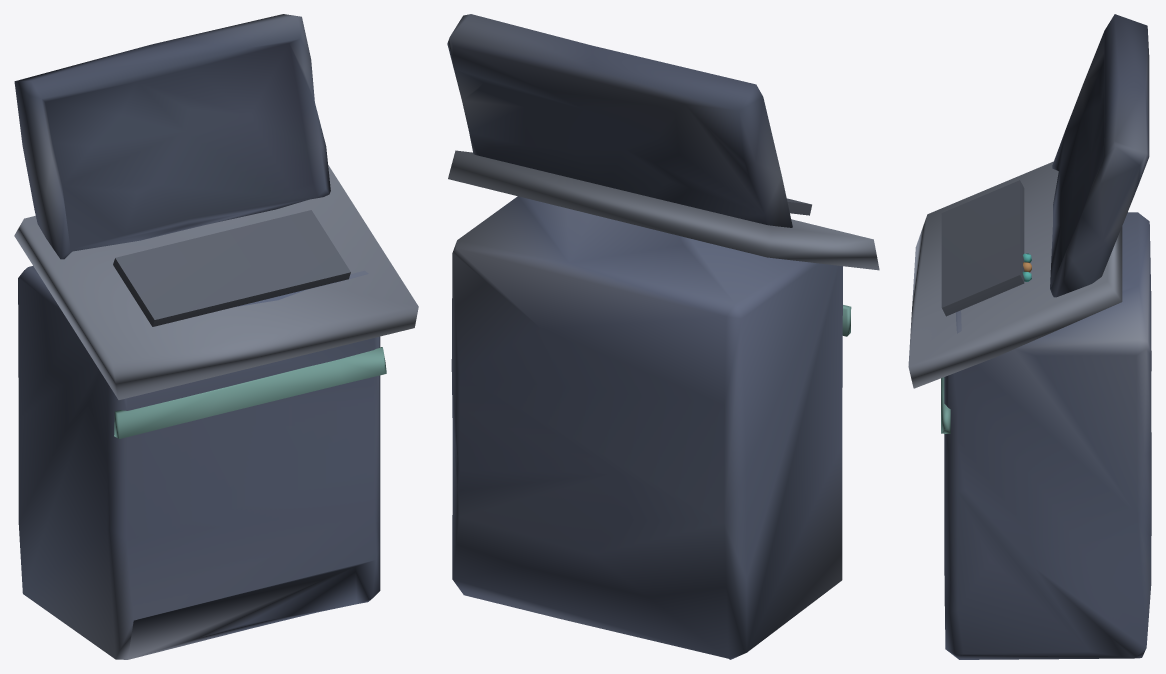
File: bay_console.glb
The picture shows the model from 3 angles, left to right: view 1: azimuth 30°, elevation 25°; view 2: azimuth 150°, elevation 25°; view 3: azimuth 270°, elevation 25°; orthographic projection. The views are drawn at different scales.
Parts seen in each view (by area): view 1: console; view 2: console; view 3: console.
Boxes of the visible parts, x1,y1,x2,y2 form: console: (14, 14, 418, 659); console: (447, 14, 879, 659); console: (908, 14, 1151, 659).
Bounding box in the file's own units: 0.7865 × 1.34 × 0.5628.
